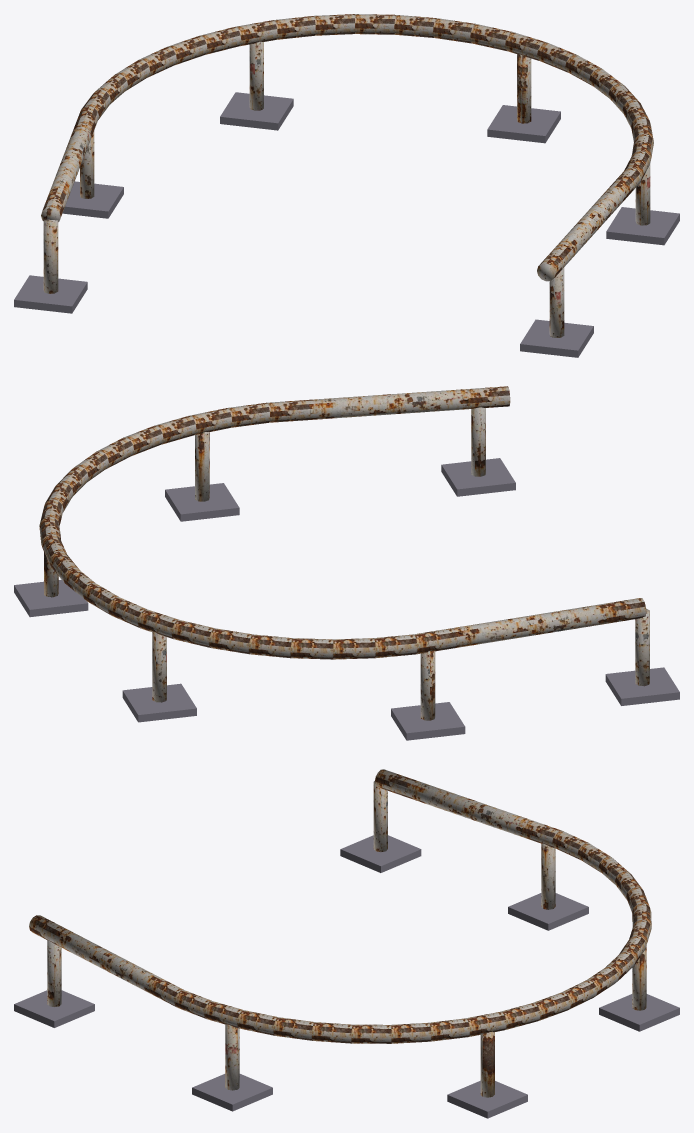
Rendered from Plat_CurveRail.glb.
The picture shows the model from 3 angles, top to bottom: view 1: azimuth 30°, elevation 25°; view 2: azimuth 150°, elevation 25°; view 3: azimuth 270°, elevation 25°; orthographic projection. The views are drawn at different scales.
Parts seen in each view (by area): view 1: Plat_CurveRail_Bar, Plat_CurveRail_Bar_Feet; view 2: Plat_CurveRail_Bar, Plat_CurveRail_Bar_Feet; view 3: Plat_CurveRail_Bar, Plat_CurveRail_Bar_Feet.
Boxes of the visible parts, x1,y1,x2,y2 form: Plat_CurveRail_Bar: (41, 14, 653, 337); Plat_CurveRail_Bar_Feet: (14, 92, 679, 357); Plat_CurveRail_Bar: (39, 386, 649, 720); Plat_CurveRail_Bar_Feet: (14, 458, 679, 740); Plat_CurveRail_Bar: (29, 769, 651, 1097); Plat_CurveRail_Bar_Feet: (14, 835, 679, 1118).
Size of the model in its own units: 3.47 by 0.5 by 3.49.
2 materials, 1 textured.
